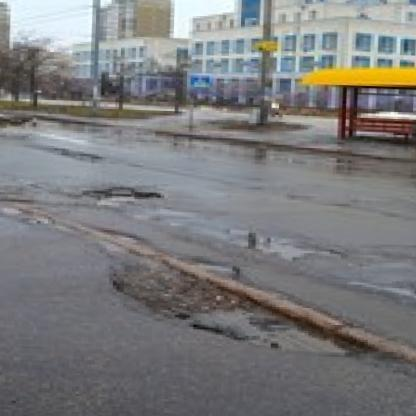pothole: (106, 248, 370, 362), (82, 185, 161, 211)
